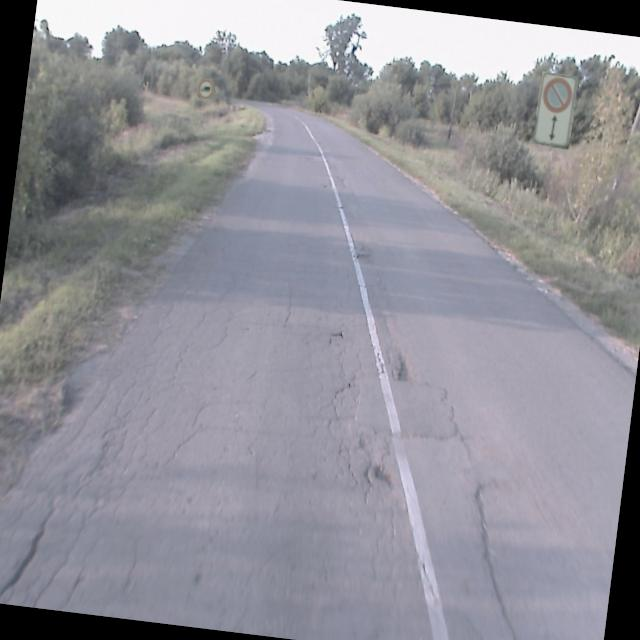road: (0, 102, 635, 640)
